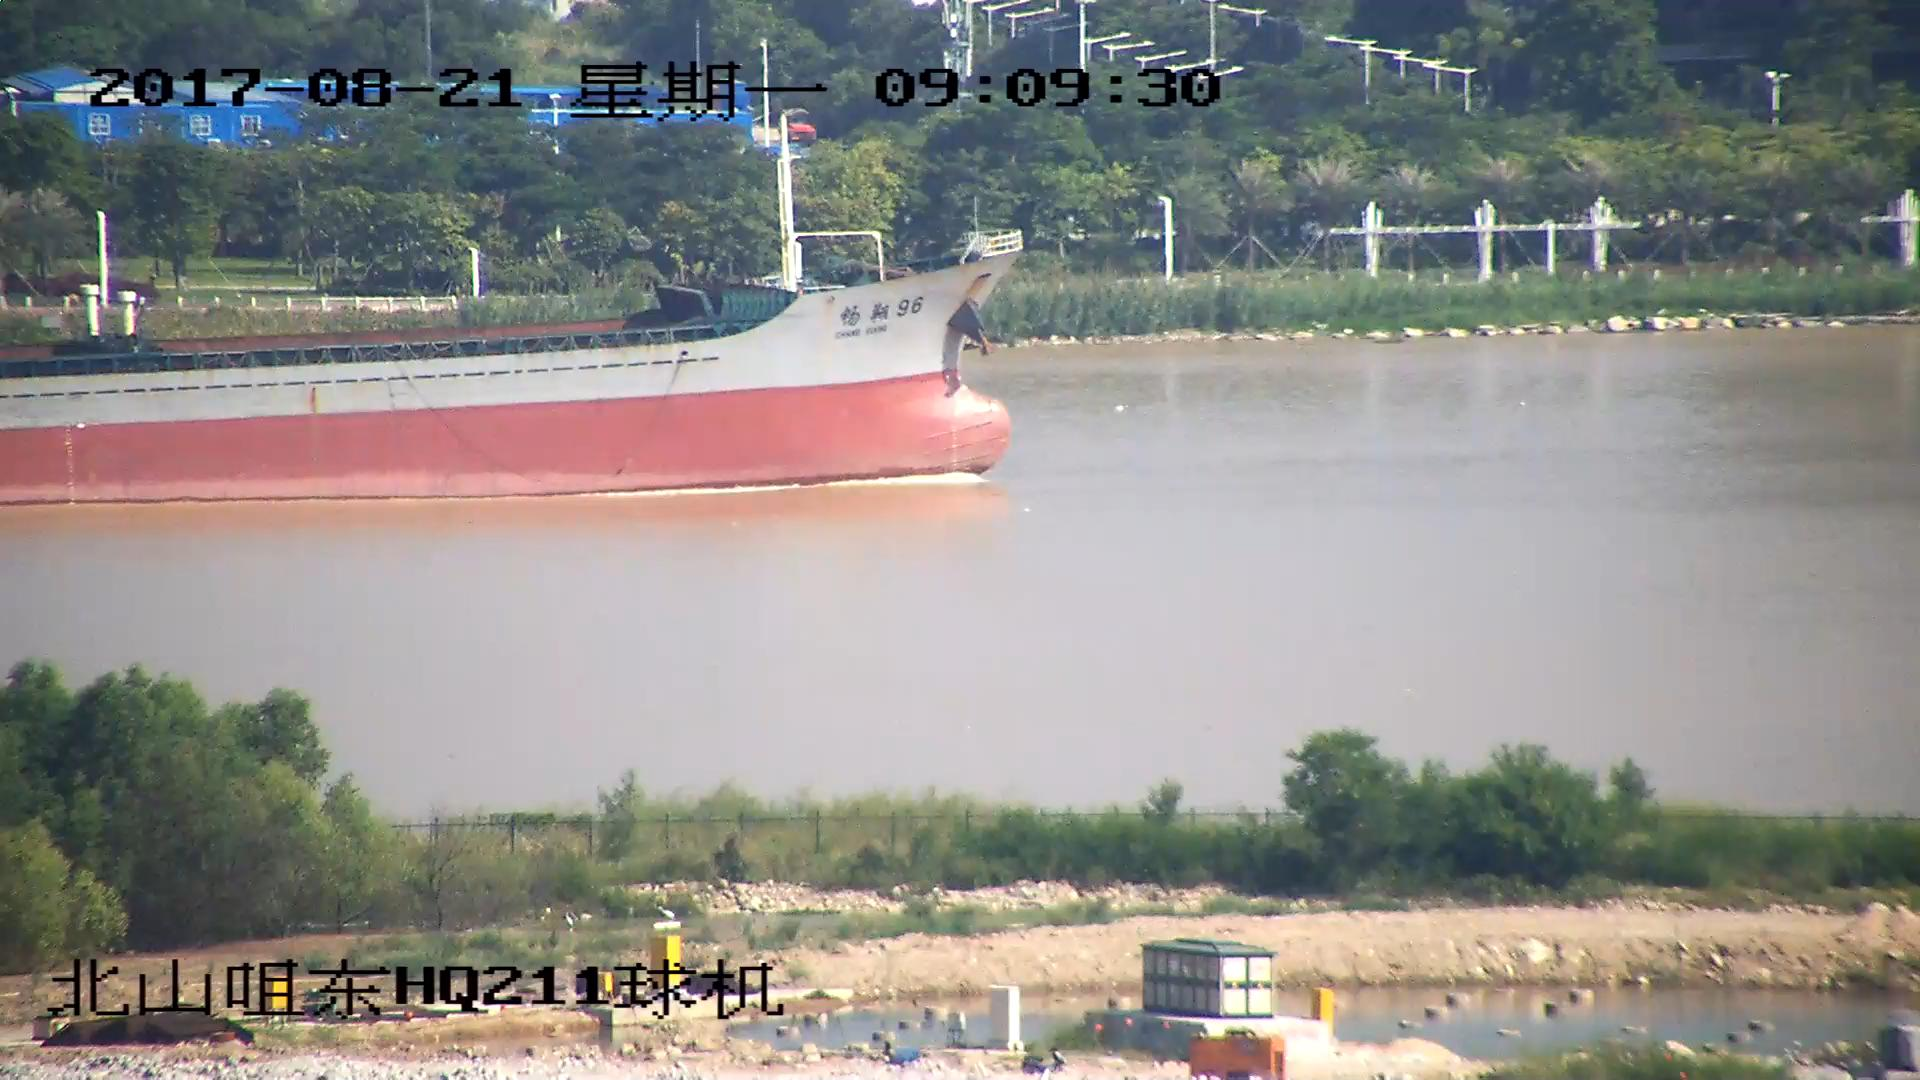general cargo ship: (1, 120, 1019, 500)
